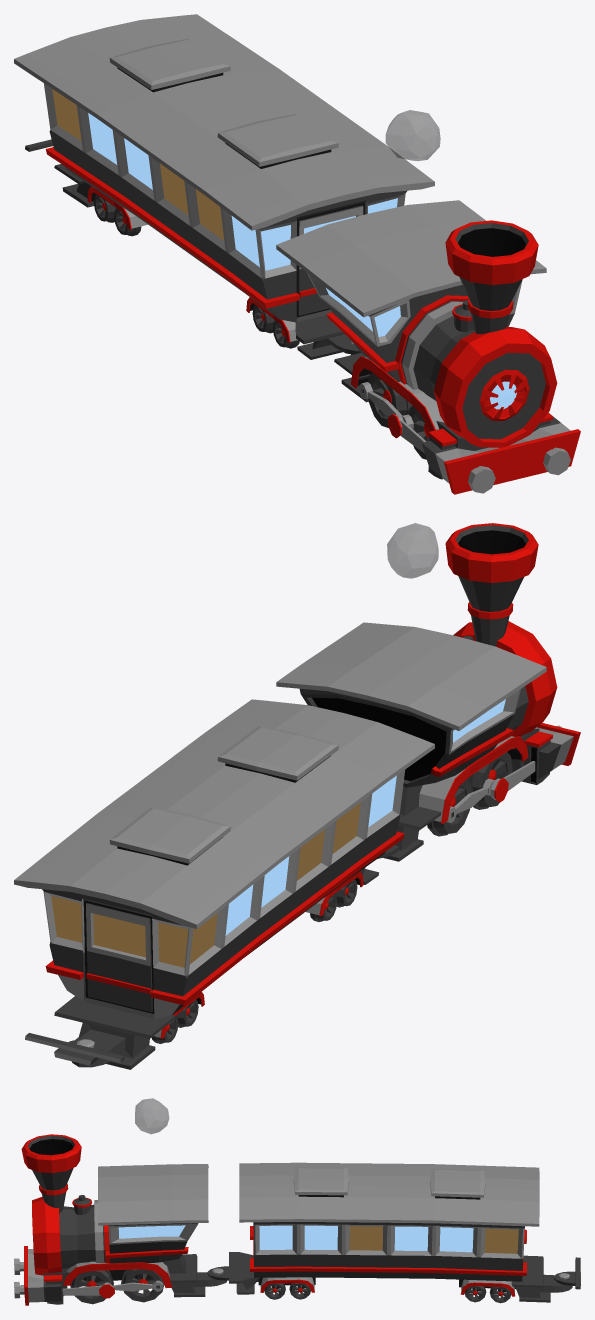
Rendered from red-train.glb.
3 views of the same model, one above another, from view 1: azimuth 30°, elevation 25°; view 2: azimuth 150°, elevation 25°; view 3: azimuth 270°, elevation 25° (orthographic). The views are drawn at different scales.
Parts seen in each view (by area): view 1: Train, Smoke.000; view 2: Train, Smoke.000; view 3: Train, Smoke.000.
Boxes of the visible parts, x1,y1,x2,y2 form: Train: (14,14,580,494); Smoke.000: (385,110,440,160); Train: (14,523,580,1069); Smoke.000: (387,523,438,578); Train: (14,1134,580,1305); Smoke.000: (135,1098,169,1134).
Size of what is drawn, in the model's own units: 20.02 by 32.23 by 85.11.
